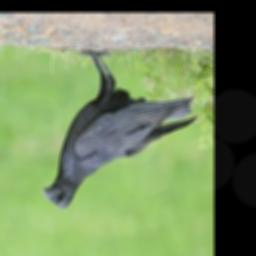Crow: (42, 49, 199, 210)
